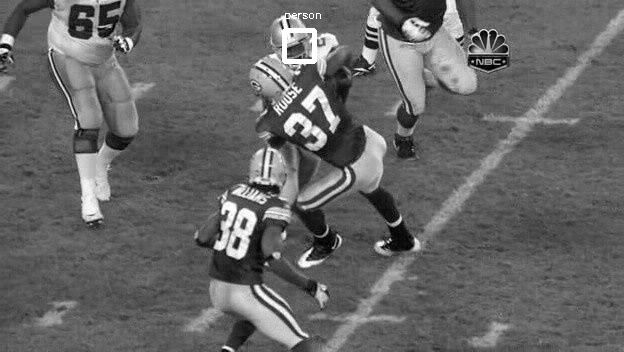person: (274, 22, 310, 68), (273, 22, 309, 68), (275, 22, 311, 68), (274, 21, 310, 67), (274, 23, 310, 69)
target_negative: (270, 24, 621, 334), (11, 280, 278, 351), (217, 249, 505, 310), (96, 325, 460, 340), (597, 44, 623, 232), (316, 60, 387, 61)
